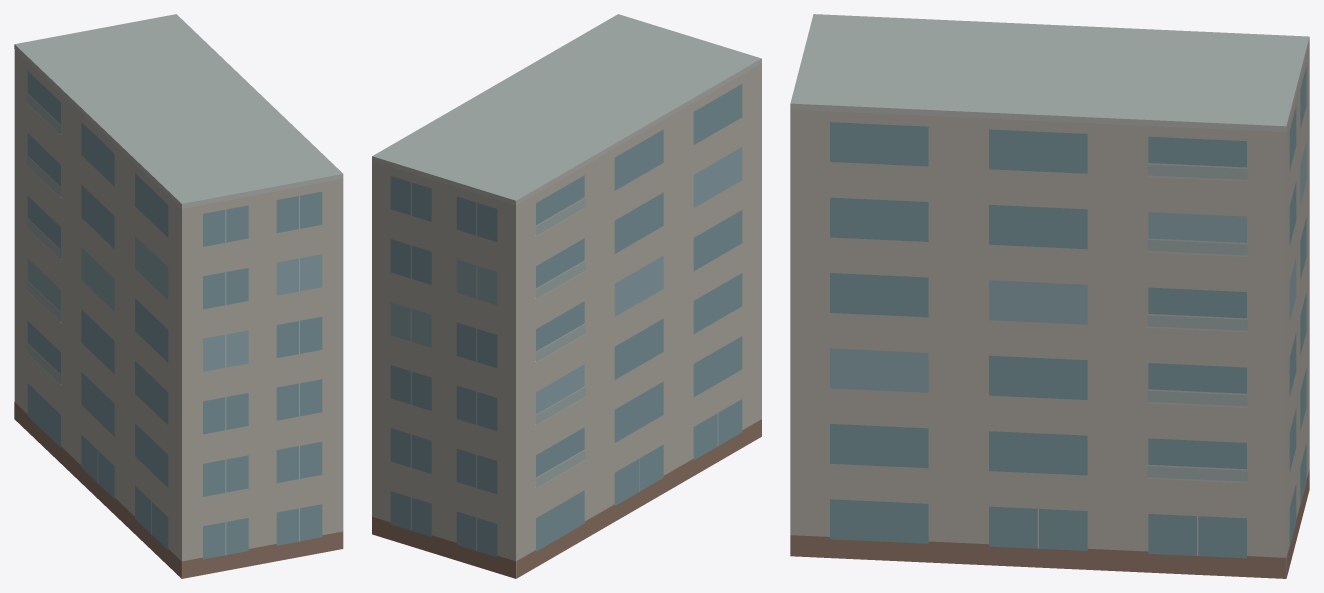
File: survey-upis-32567023.glb
The picture shows the model from 3 angles, left to right: view 1: azimuth 30°, elevation 25°; view 2: azimuth 150°, elevation 25°; view 3: azimuth 270°, elevation 25°; orthographic projection. The views are drawn at different scales.
Visible parts, largest first — view 1: survey-upis-32567023.tmp; view 2: survey-upis-32567023.tmp; view 3: survey-upis-32567023.tmp.
Boxes of the visible parts, left/top/right/bottom form: survey-upis-32567023.tmp: left=14, top=14, right=343, bottom=578; survey-upis-32567023.tmp: left=372, top=14, right=761, bottom=578; survey-upis-32567023.tmp: left=790, top=14, right=1309, bottom=578.
Bounding box in the file's own units: 9.96 × 18.7 × 19.45.
